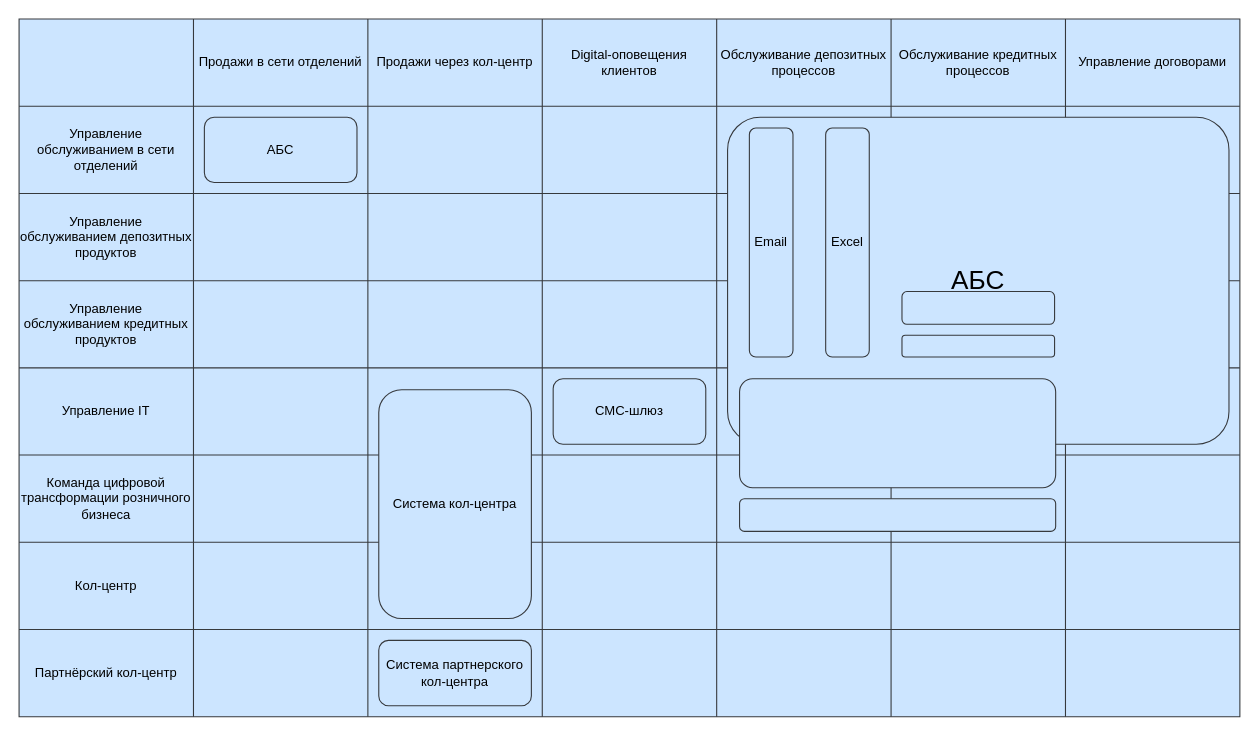
The diagram is 1259 pixels wide and 736 high, and some of its shapes have lost their labels. The shapes that lost their labels are listed below. From the top down, each one's centre as x and y in pixels, then its label:
At [978,307]: "Кредитный конвейер".
At [978,345]: "Скоринг".
At [897,433]: "Интернет-банк".
At [897,514]: "Сайт".
